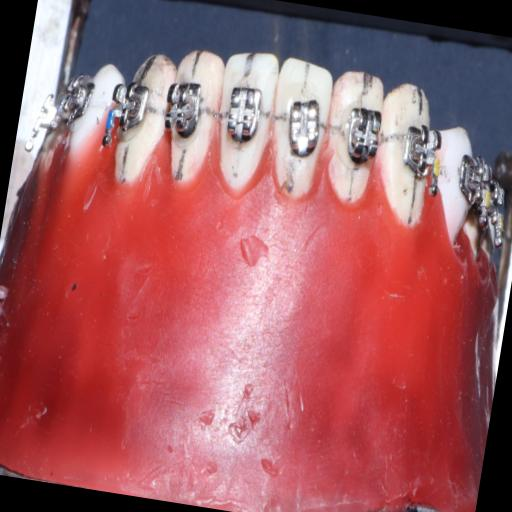incorrect_brace: (278, 91, 324, 162)
